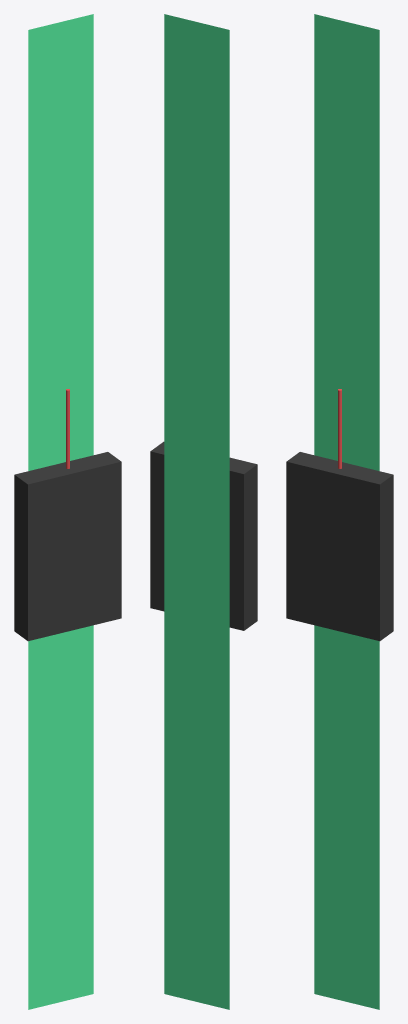
Rendered from hacker.glb.
3 views of the same model, side by side, from view 1: azimuth 30°, elevation 25°; view 2: azimuth 150°, elevation 25°; view 3: azimuth 330°, elevation 25° (orthographic).
Visible parts, largest first — view 1: Plane, Cube, Cylinder; view 2: Plane, Cube; view 3: Plane, Cube, Cylinder.
Part boxes in pixels (x1,y1,x2,y2): Plane: [28, 14, 93, 1009]; Cube: [14, 452, 121, 641]; Cylinder: [66, 389, 69, 468]; Plane: [164, 14, 229, 1009]; Cube: [150, 441, 257, 630]; Plane: [314, 14, 379, 1009]; Cube: [286, 452, 393, 641]; Cylinder: [338, 389, 341, 468].
Bounding box in the file's own units: 0.1 × 1 × 0.0255.
